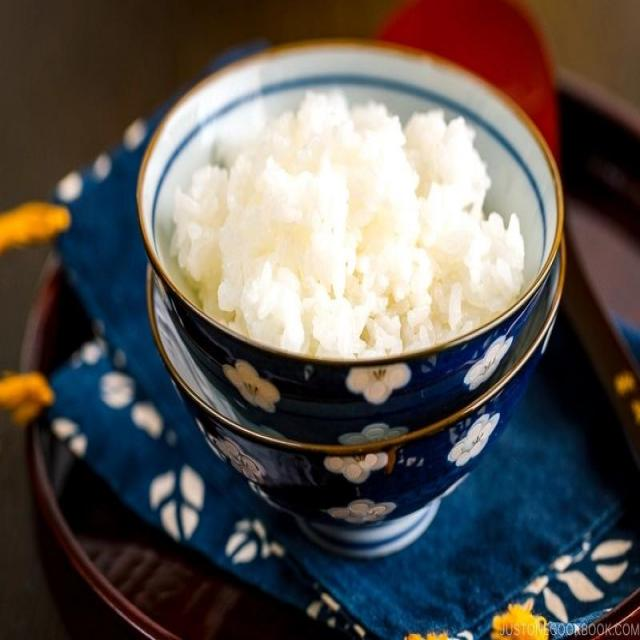rice: (179, 91, 524, 352)
